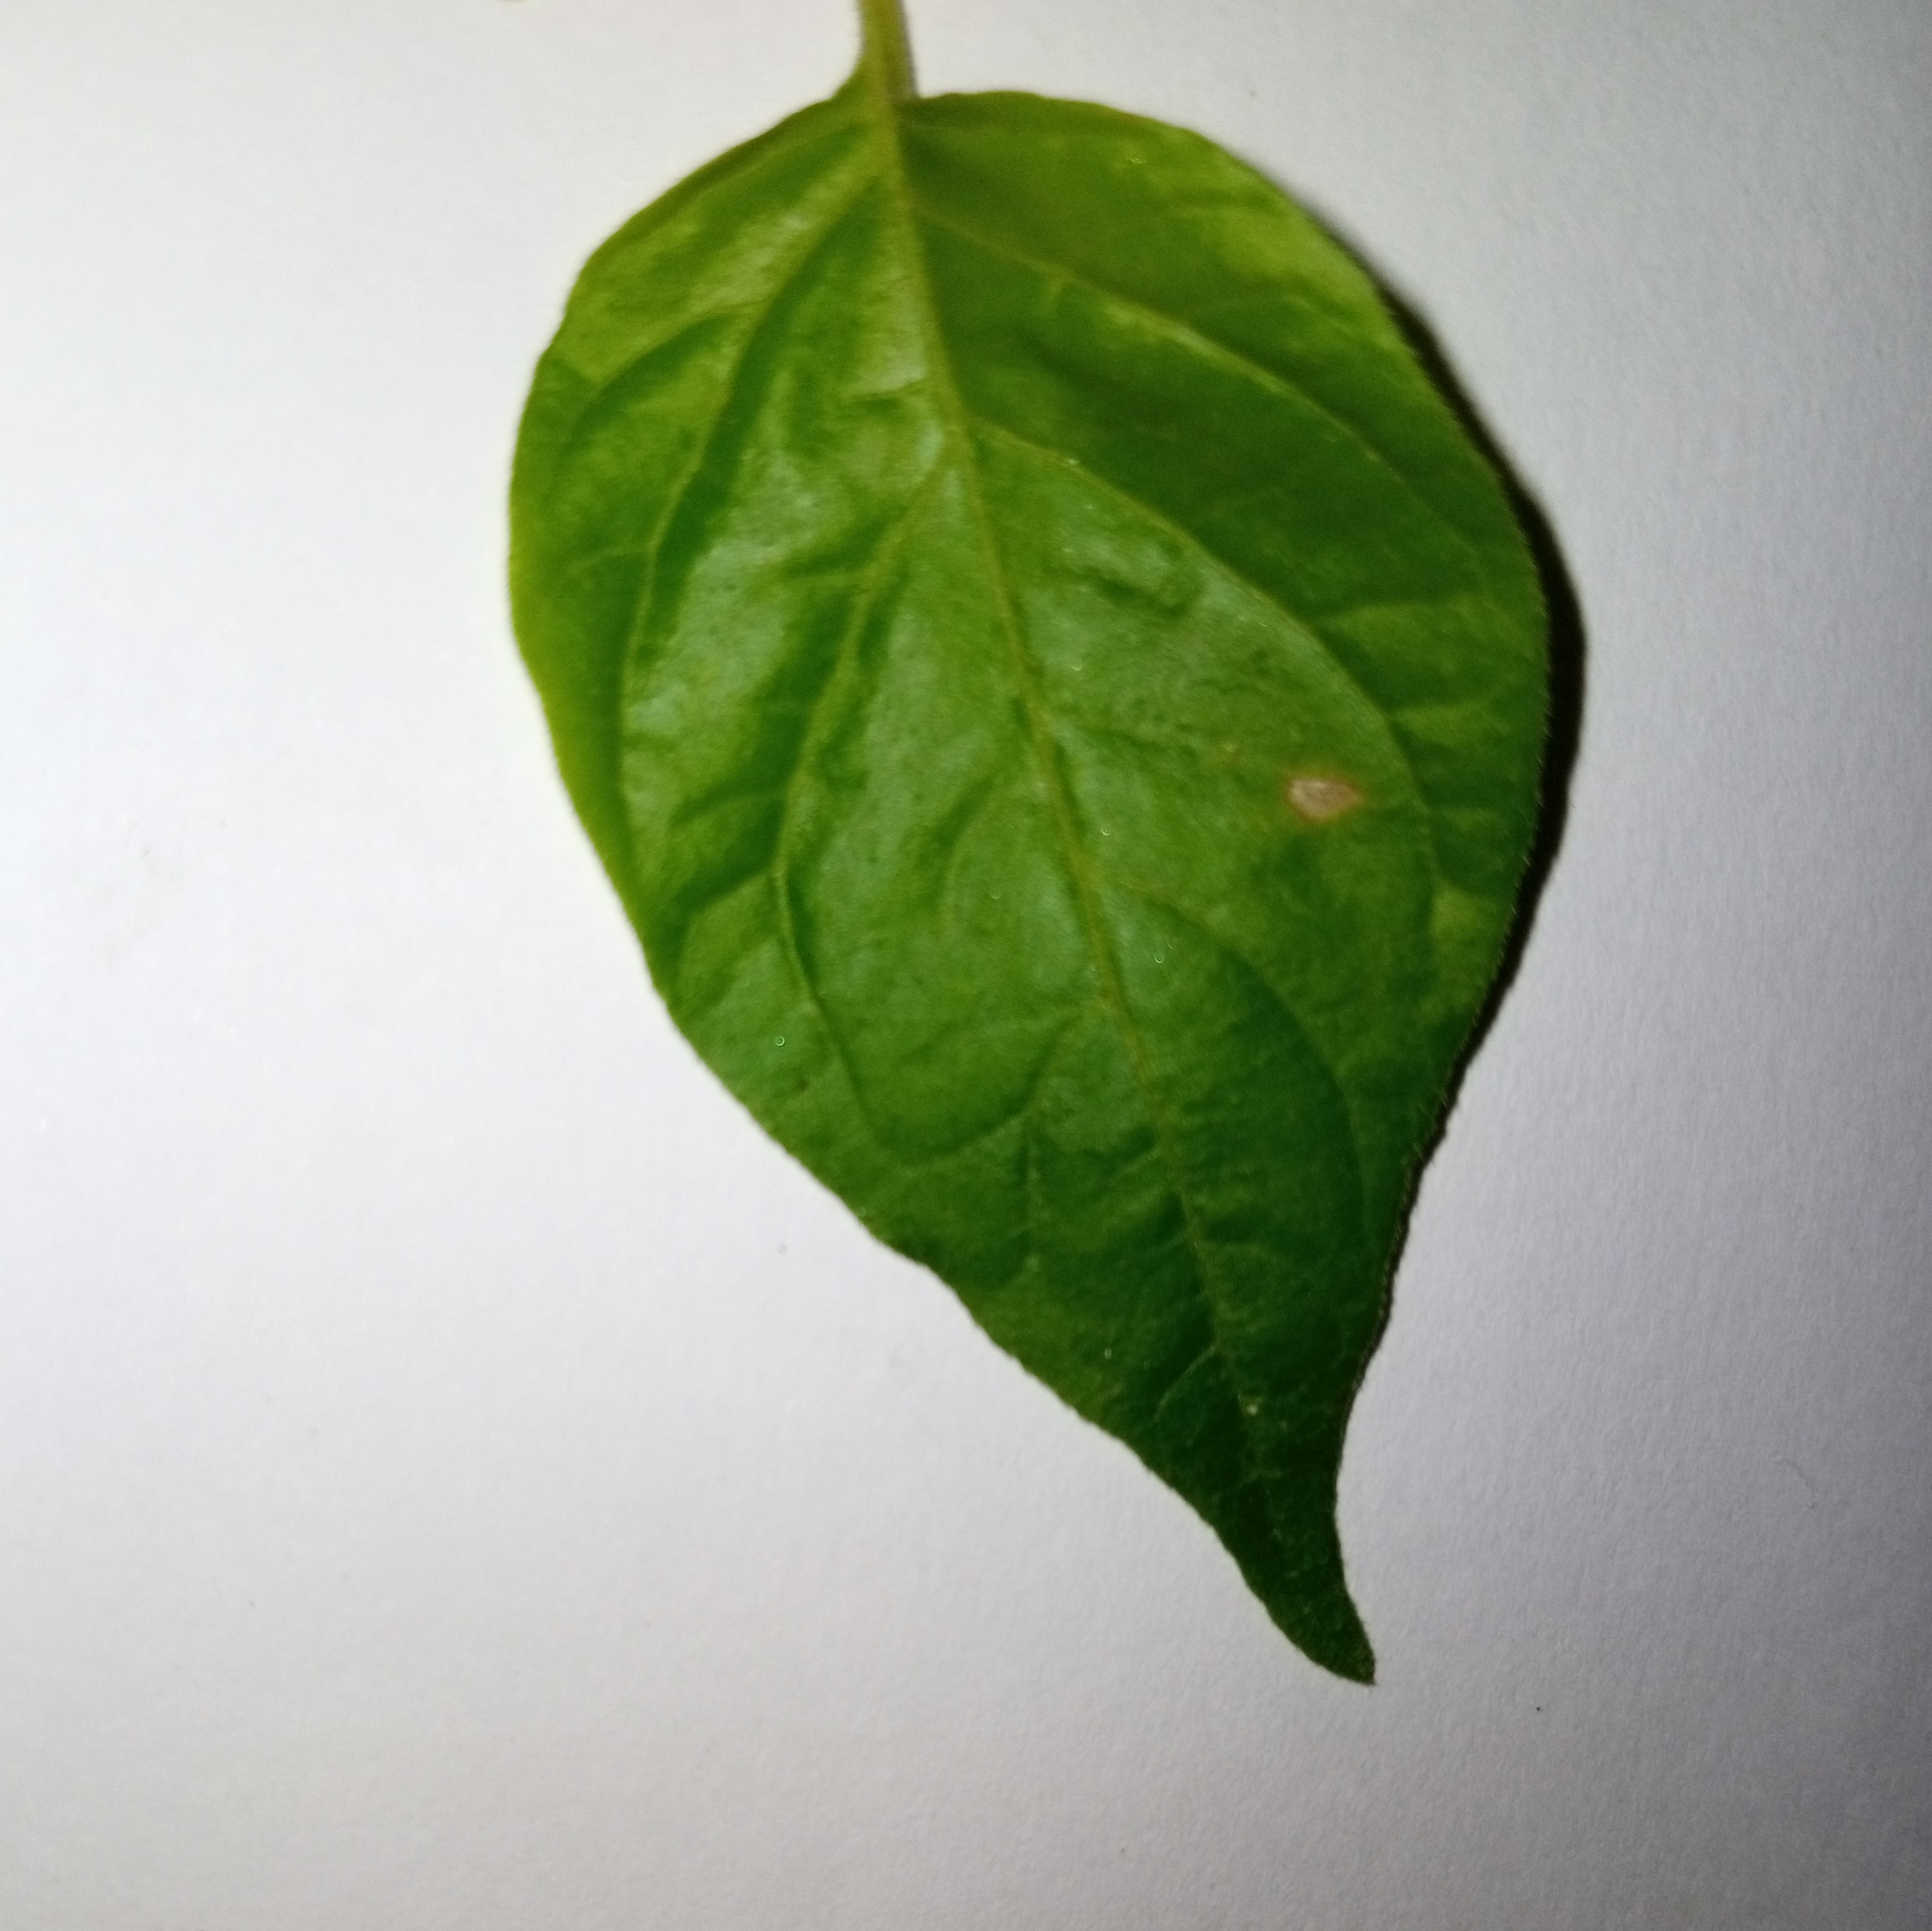Leaf: (416, 76, 1698, 1740)
